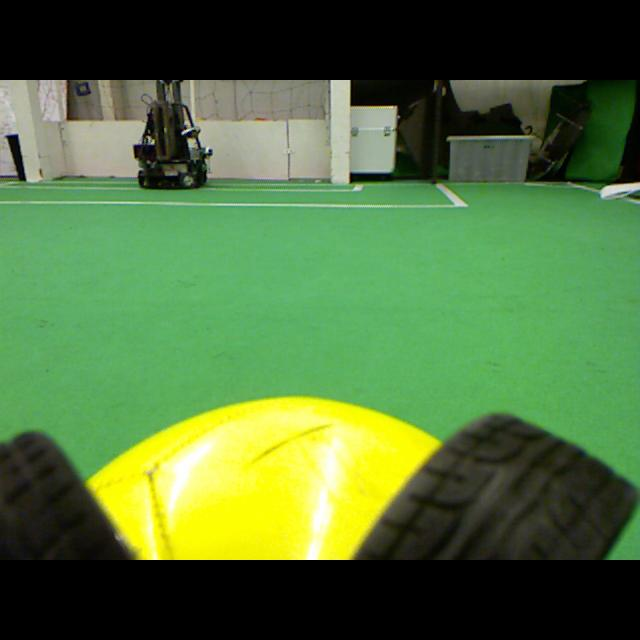ball: (85, 399, 440, 559)
goal: (8, 80, 42, 182), (331, 80, 350, 184)
robot: (133, 80, 214, 189)
